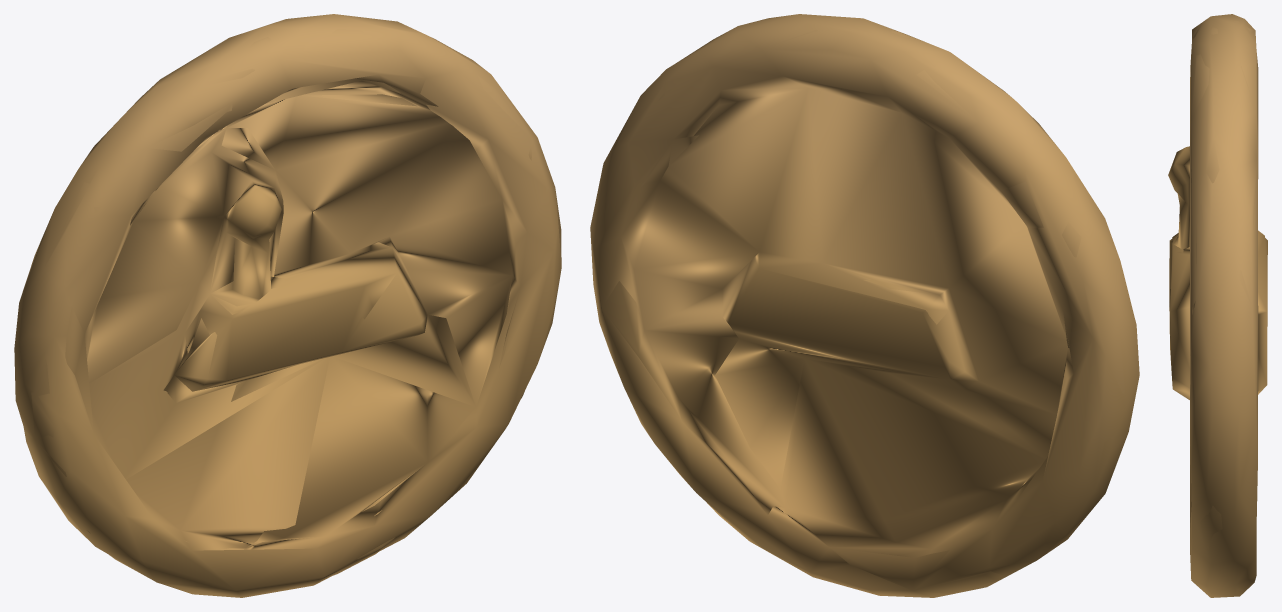
The model's file is gen3d-arcade-token-lod1.glb.
3 renders of one model, left to right at view 1: azimuth 30°, elevation 25°; view 2: azimuth 150°, elevation 25°; view 3: azimuth 270°, elevation 25°, orthographic. The views are drawn at different scales.
Parts seen in each view (by area): view 1: part_0; view 2: part_0; view 3: part_0.
Boxes of the visible parts, x1,y1,x2,y2 form: part_0: [14, 14, 561, 597]; part_0: [590, 14, 1139, 597]; part_0: [1168, 14, 1267, 597].
Size of the model in its own units: 0.9989 by 0.9967 by 0.1701.
